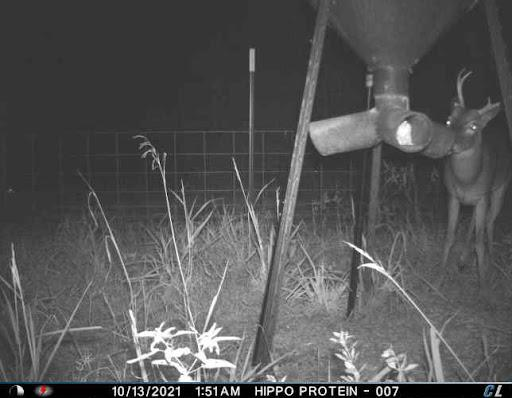Deer: (438, 60, 511, 297)
